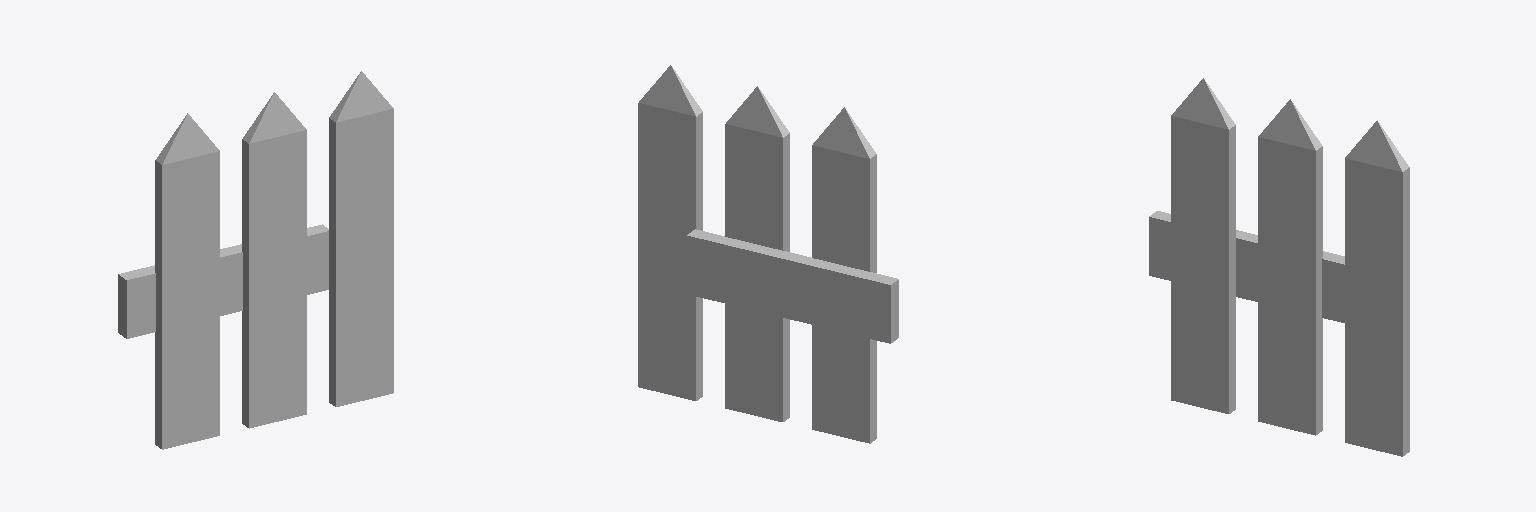
The model's file is FenceLeft.obj.
The picture shows the model from 3 angles: view 1: azimuth 30°, elevation 25°; view 2: azimuth 150°, elevation 25°; view 3: azimuth 330°, elevation 25°; orthographic projection.
Visible parts, largest first — view 1: FenceLeft; view 2: FenceLeft; view 3: FenceLeft.
Part boxes in pixels (x1,y1,x2,y2): FenceLeft: (118,71,393,449); FenceLeft: (638,65,898,443); FenceLeft: (1149,78,1409,456).
Bounding box in the file's own units: 9 × 10.8 × 0.8992.